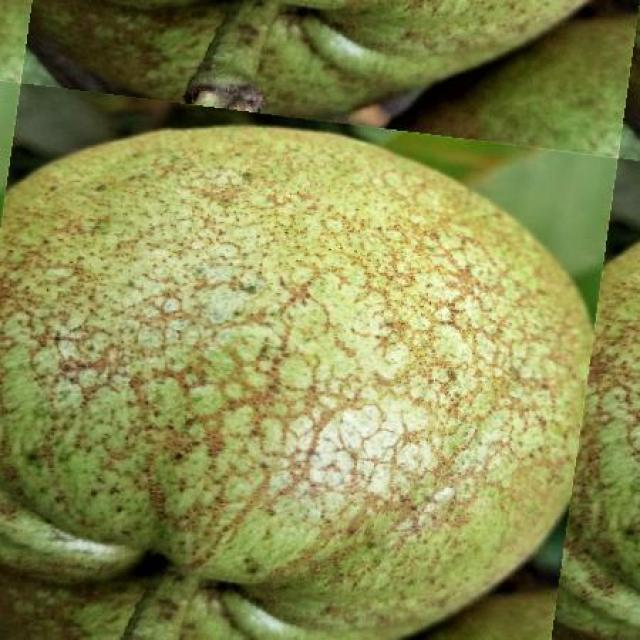Scab: (0, 126, 591, 639), (555, 244, 640, 640)
